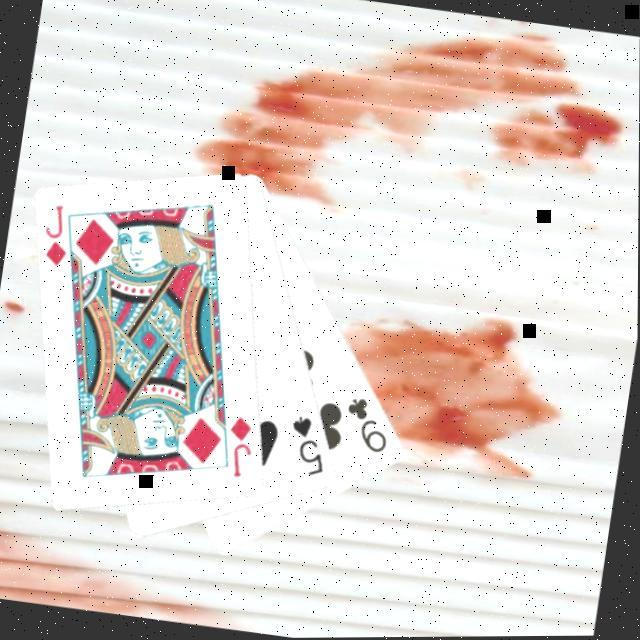5S: (284, 411, 336, 481)
9C: (339, 391, 399, 458)
JD: (37, 200, 78, 271), (221, 410, 261, 481)
